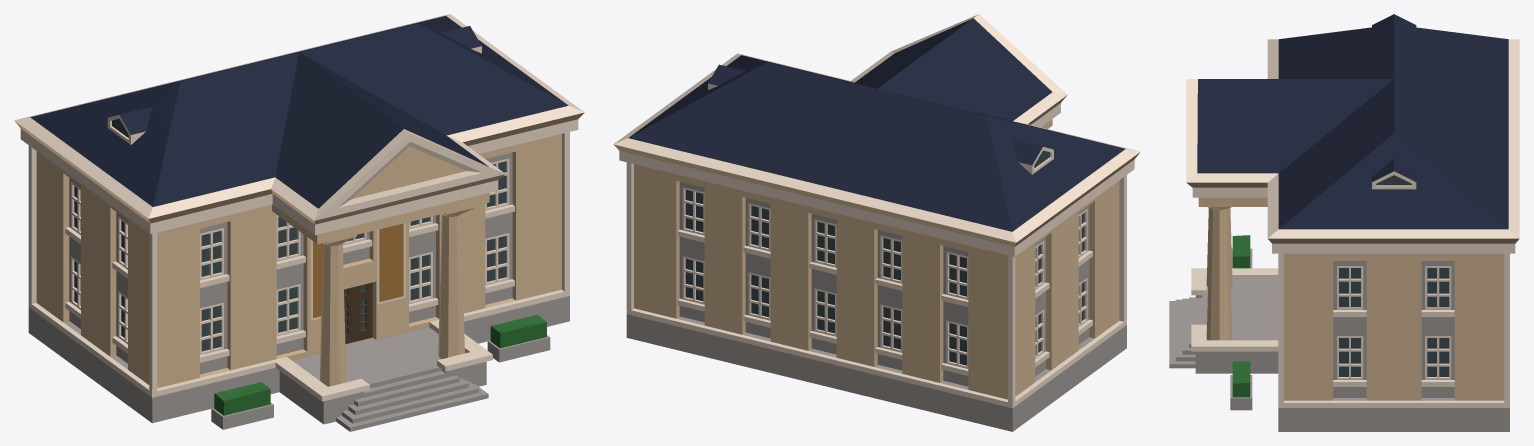
The model's file is buildings_building-museum.fbx.
3 views of the same model, side by side, from view 1: azimuth 30°, elevation 25°; view 2: azimuth 150°, elevation 25°; view 3: azimuth 270°, elevation 25° (orthographic). The views are drawn at different scales.
Parts seen in each view (by area): view 1: buildings_building_museum; view 2: buildings_building_museum; view 3: buildings_building_museum.
Part boxes in pixels (<box>): buildings_building_museum: <box>14,14,584,431</box>; buildings_building_museum: <box>613,14,1140,431</box>; buildings_building_museum: <box>1169,14,1519,431</box>.
Bounding box in the file's own units: 200 × 120 × 149.
